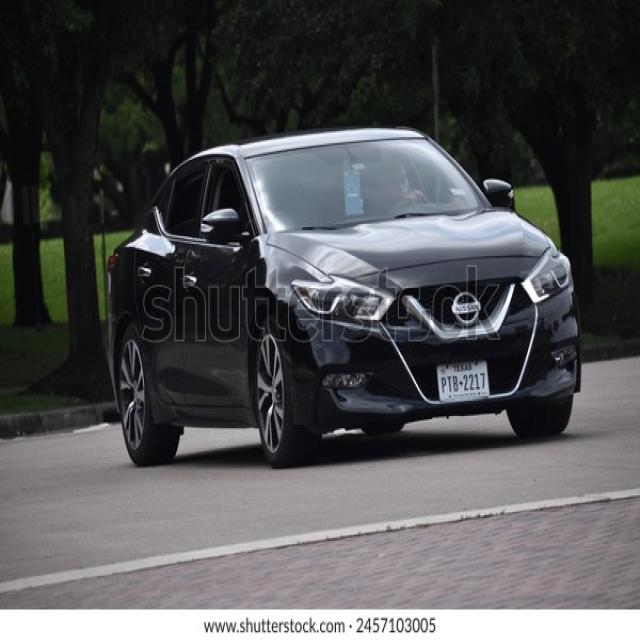nissan: (448, 286, 486, 330)
